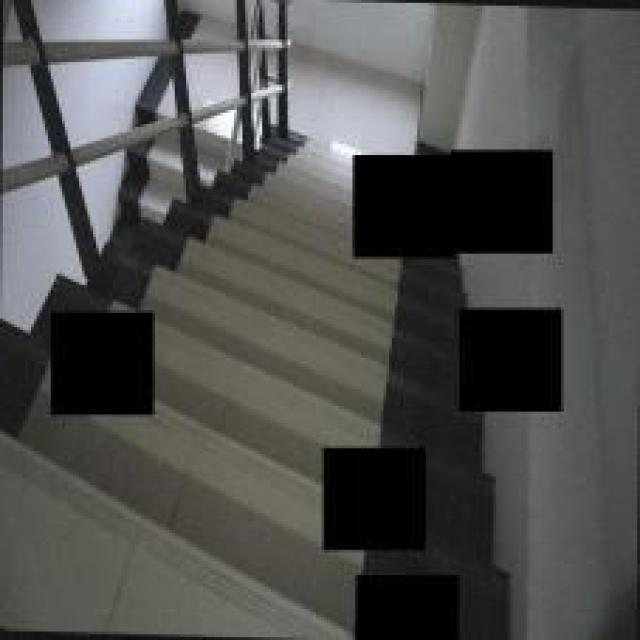downstair: (173, 252, 351, 438)
